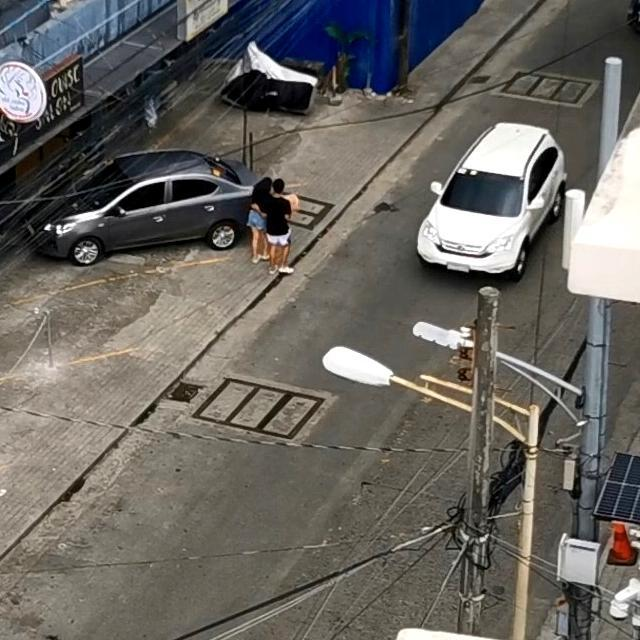Car: (27, 148, 252, 262), (411, 122, 559, 280)
